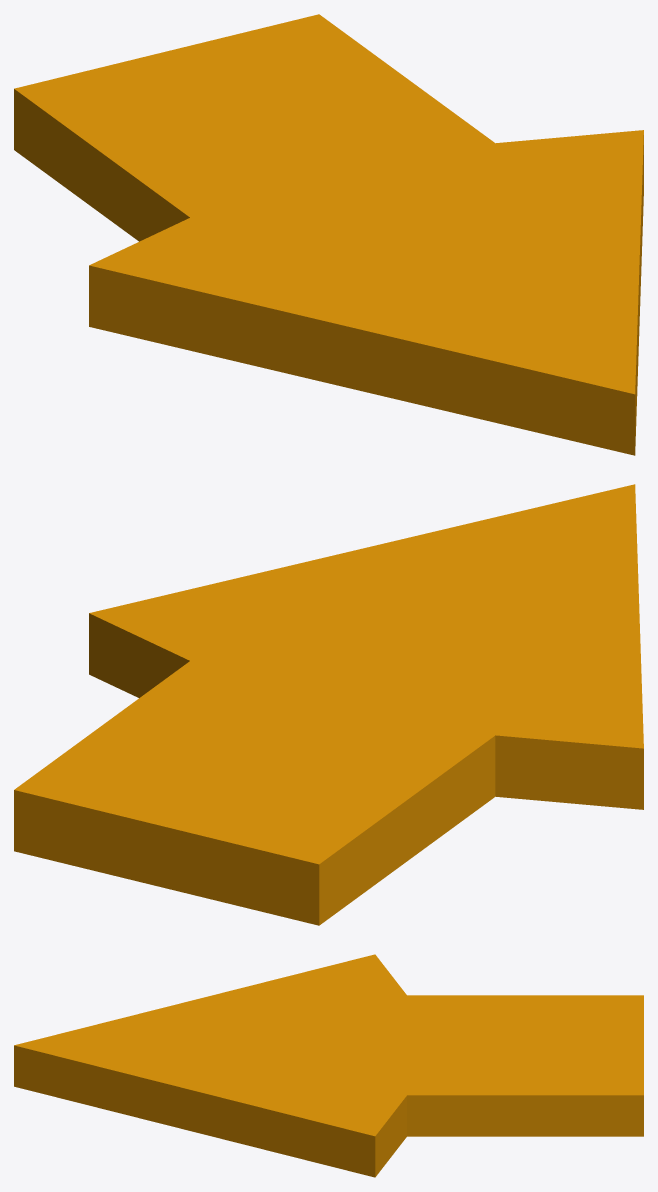
The model's file is Arrow.fbx.
The picture shows the model from 3 angles, top to bottom: view 1: azimuth 30°, elevation 25°; view 2: azimuth 150°, elevation 25°; view 3: azimuth 270°, elevation 25°; orthographic projection. The views are drawn at different scales.
Visible parts, largest first — view 1: Arrow; view 2: Arrow; view 3: Arrow.
Part boxes in pixels (x1,y1,x2,y2): Arrow: (14,14,643,455); Arrow: (14,484,643,925); Arrow: (14,954,643,1177).
Bounding box in the file's own units: 1.82 × 0.1921 × 2.66.
